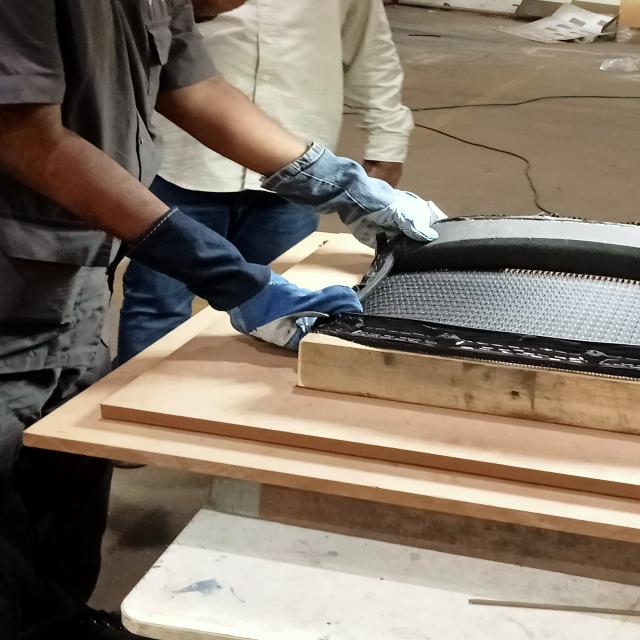Gloves-Detection: (157, 203, 347, 356), (294, 151, 428, 246)
